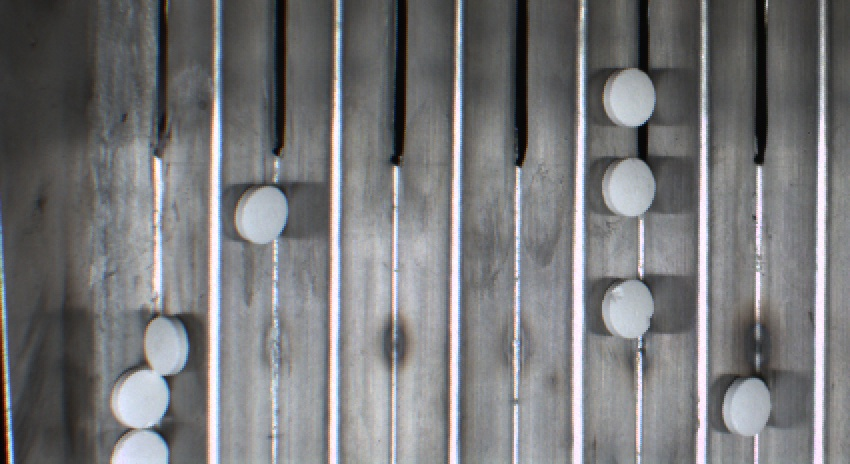white_b: (594, 268, 659, 347)
white_g: (104, 360, 174, 433), (225, 175, 294, 249), (597, 59, 661, 135), (131, 308, 196, 378), (596, 152, 661, 219), (718, 369, 776, 443)
